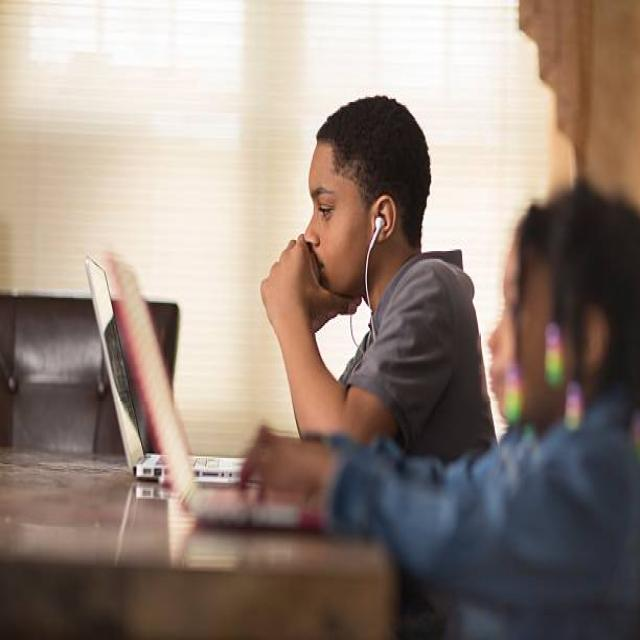Earphone: (350, 213, 384, 354)
